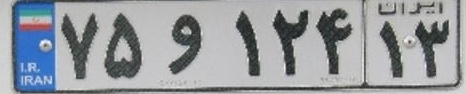character: (157, 5, 209, 81), (102, 7, 153, 83), (56, 7, 101, 83), (271, 3, 312, 84), (315, 2, 357, 79), (410, 15, 455, 81), (228, 2, 265, 82), (374, 18, 405, 84)
